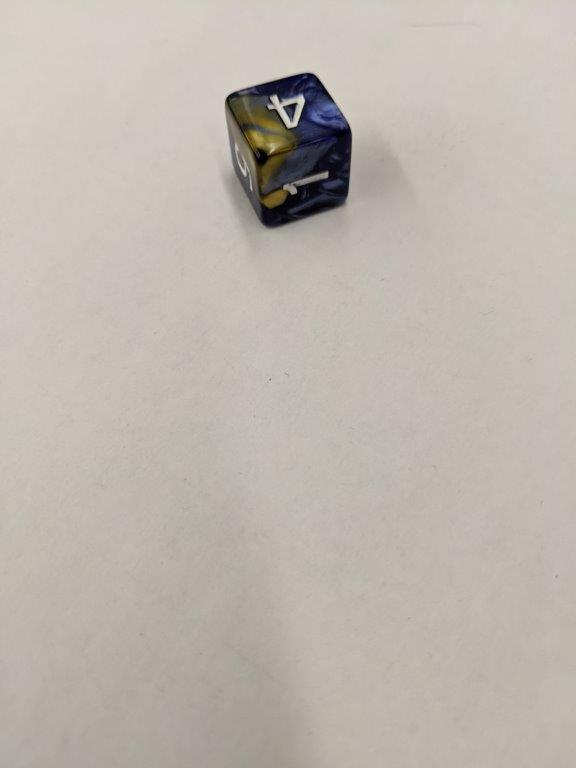d6-4: (227, 69, 354, 231)
